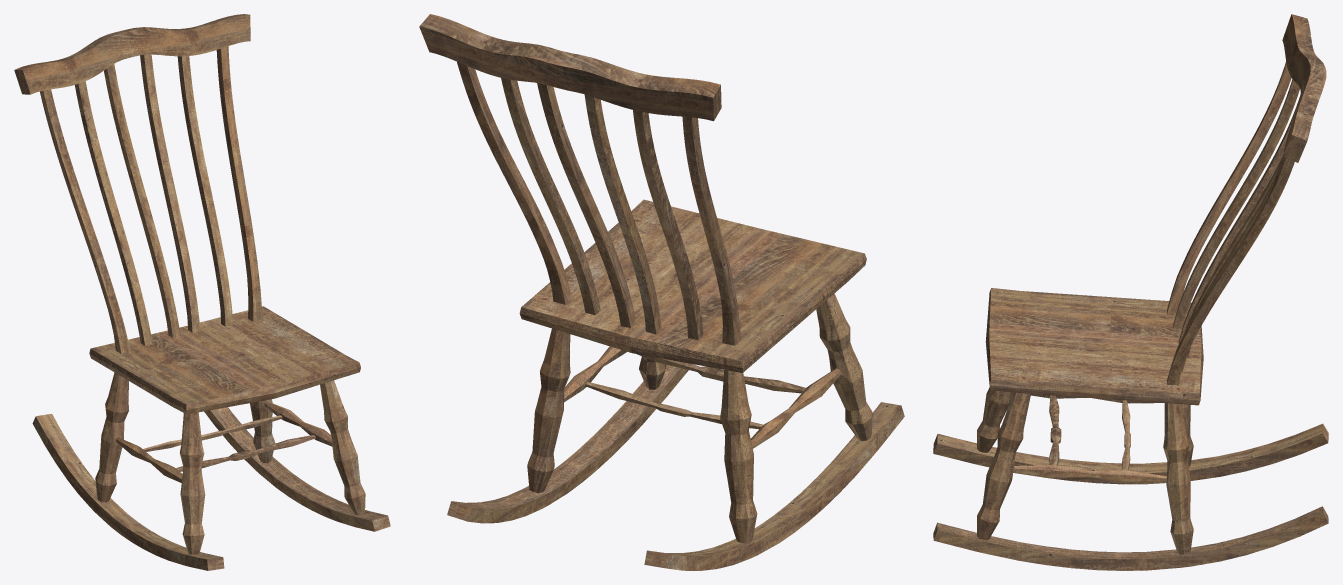
The model's file is RockingChair.glb.
3 renders of one model, left to right at view 1: azimuth 30°, elevation 25°; view 2: azimuth 150°, elevation 25°; view 3: azimuth 270°, elevation 25°, orthographic. The views are drawn at different scales.
Parts seen in each view (by area): view 1: NurbsPath.002; view 2: NurbsPath.002; view 3: NurbsPath.002.
Boxes of the visible parts, x1=… form: NurbsPath.002: x1=14, y1=14, x2=390, y2=570; NurbsPath.002: x1=419, y1=14, x2=904, y2=570; NurbsPath.002: x1=933, y1=14, x2=1328, y2=570.
Bounding box in the file's own units: 3.25 × 5.66 × 4.45.
1 material, 1 textured.
